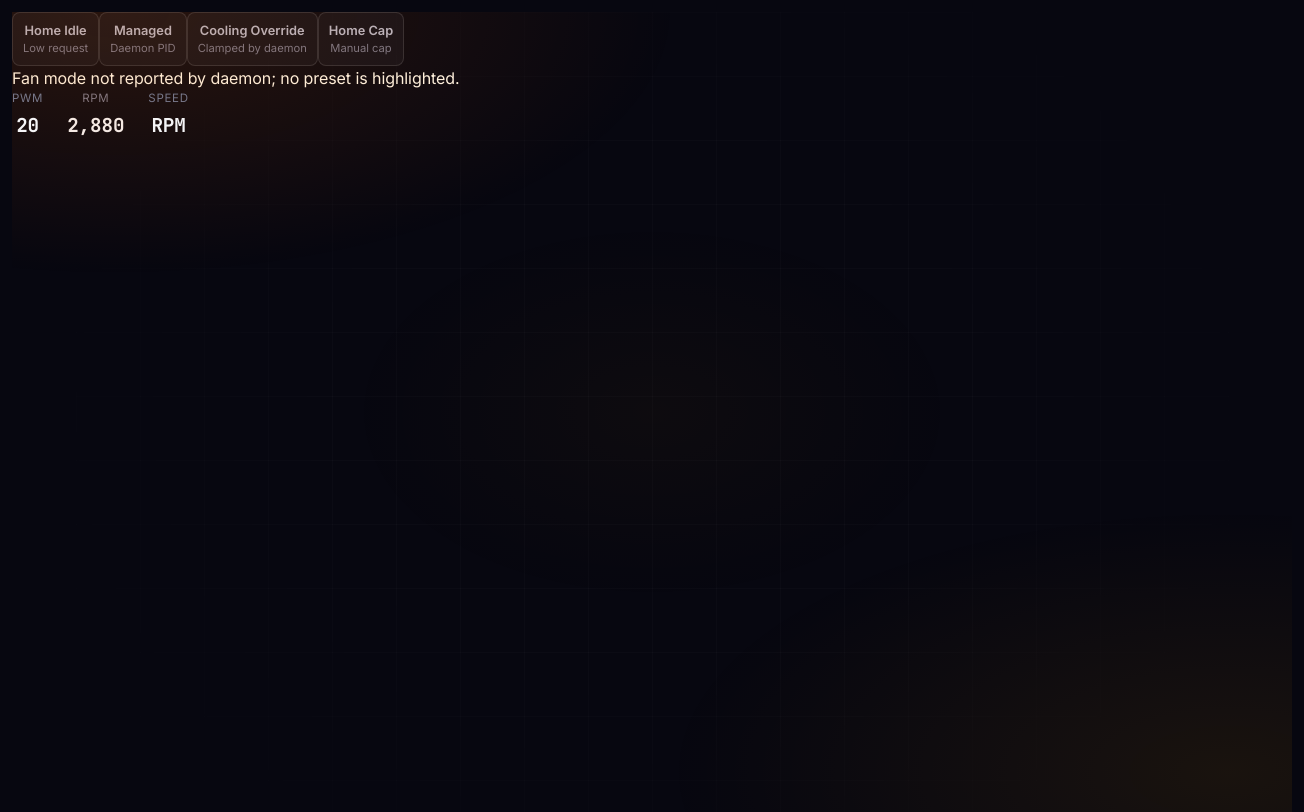
Test case: FanControl — keyboard commit + home-quiet clamp › does not render the custom PWM slider until Home Cap mode is selected
Click the button "Home Cap Manual cap".
click(361, 39)  # box [318,12,404,66]
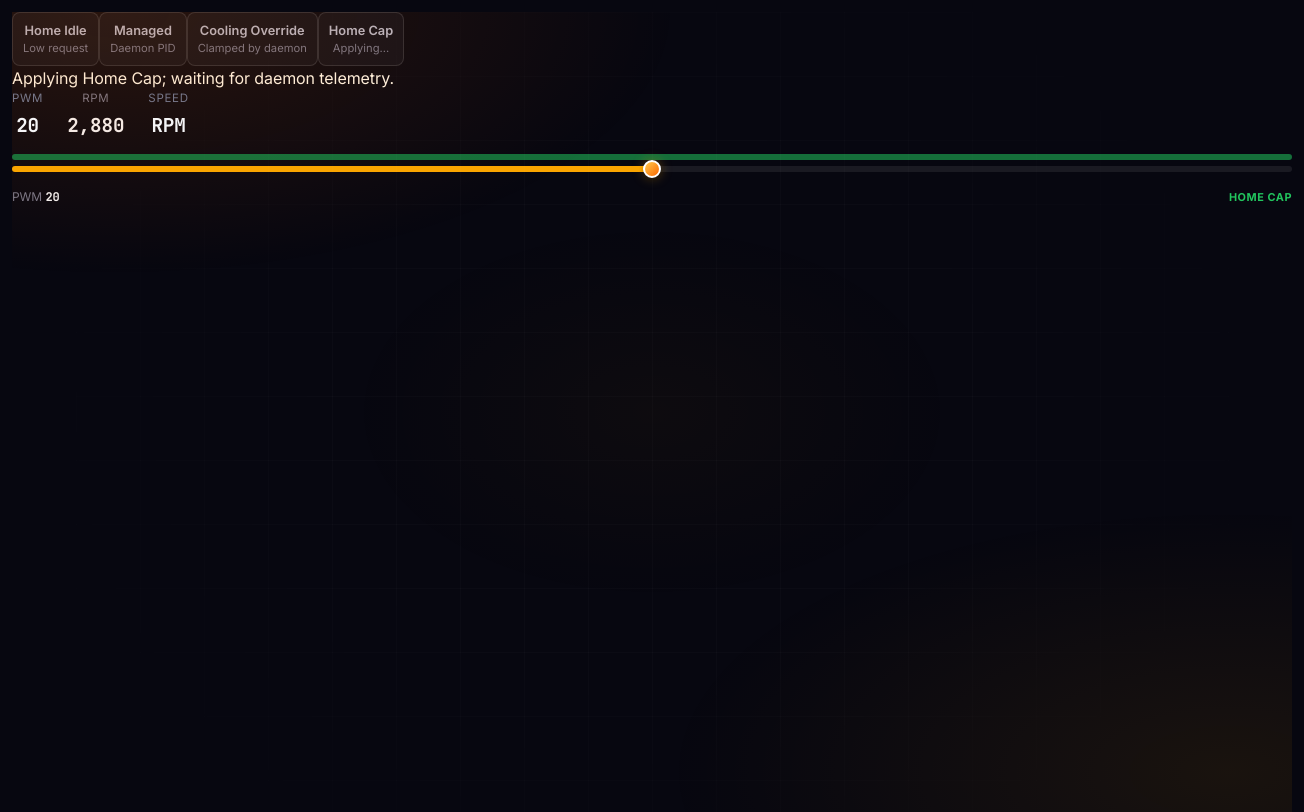
Now the slider is shown, box [12,166,1292,172]
